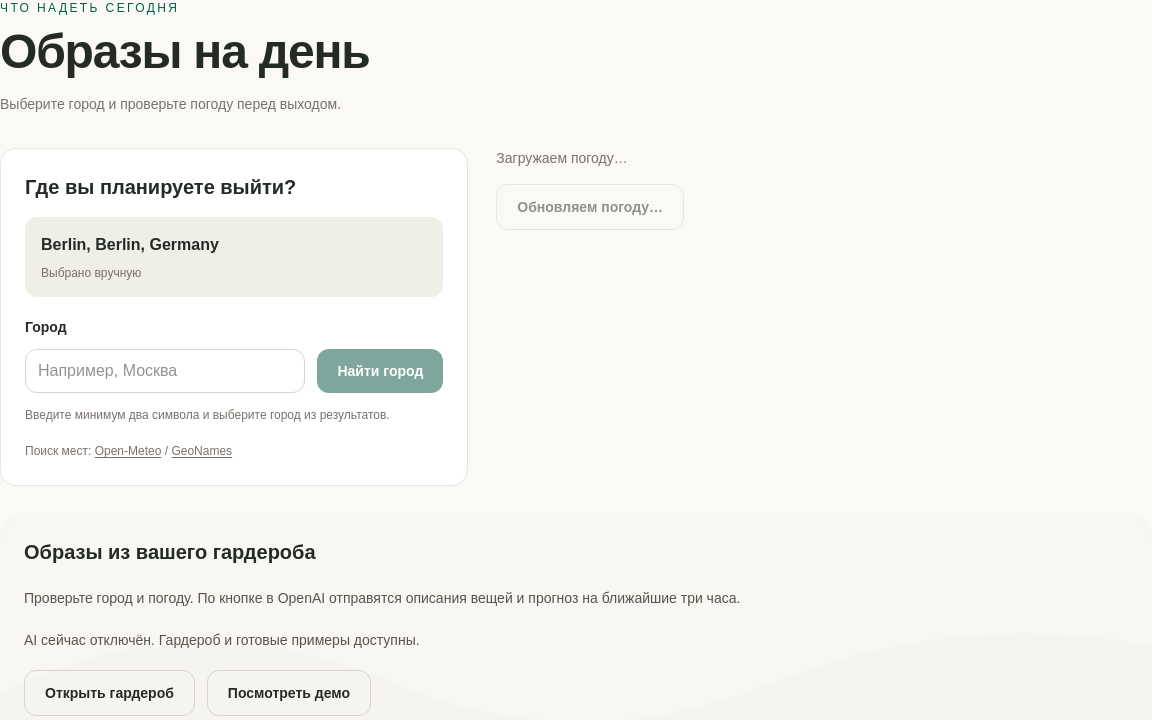
Test: personal place and weather › never displays weather from the previous city after a new location is selected
This screenshot has width=1152, height=720.
Type "Москва" into the field labelled "Город" at x=165, y=371, box [25,349,306,393]
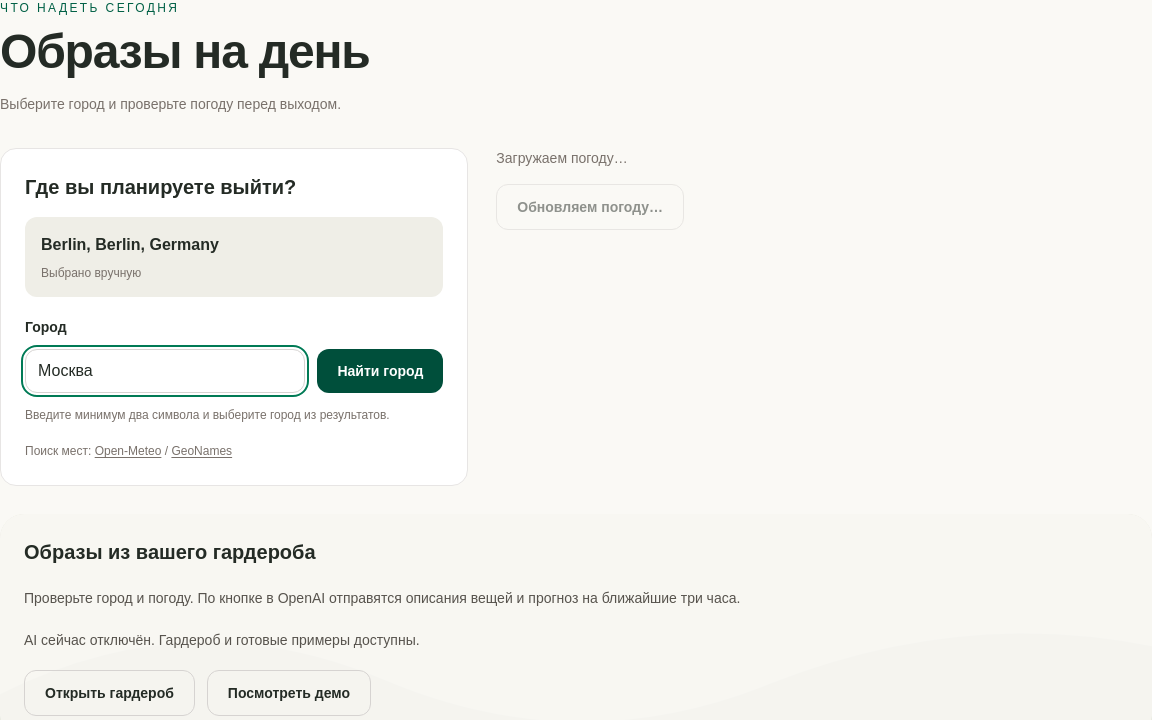
Click the button "Найти город" at x=380, y=371, box [318,349,443,393]
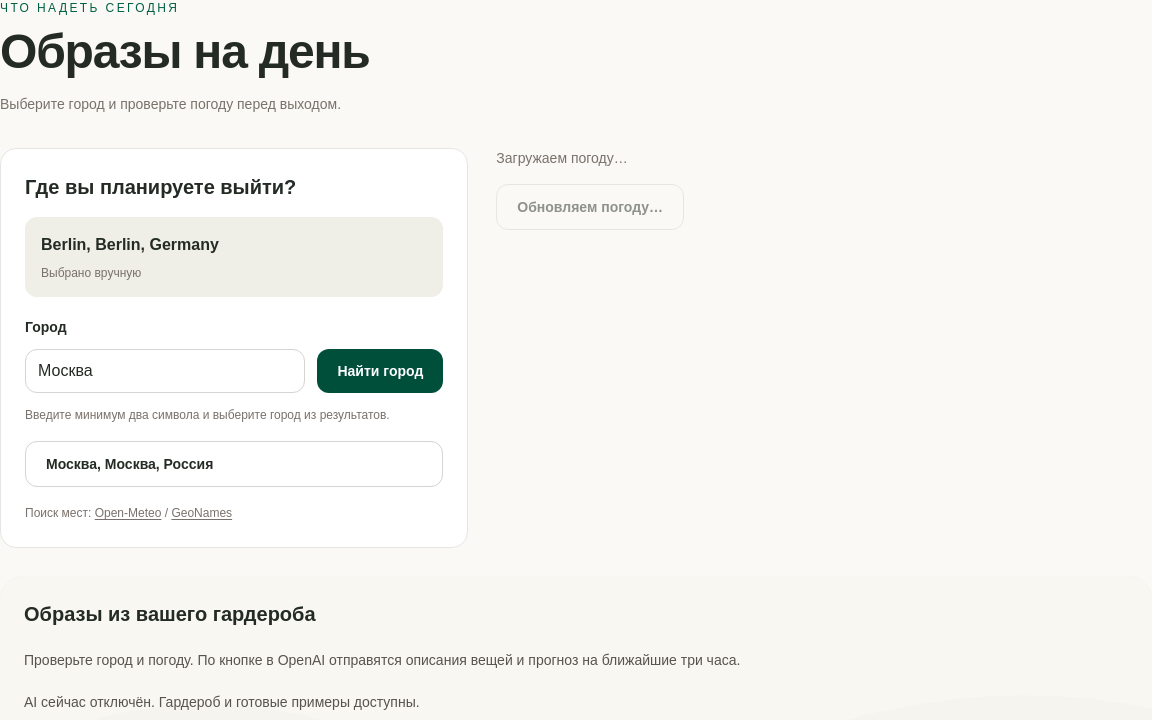
Click the button with aria-label "Выбрать Москва, Москва, Россия" at x=130, y=464, box [25,441,443,487]
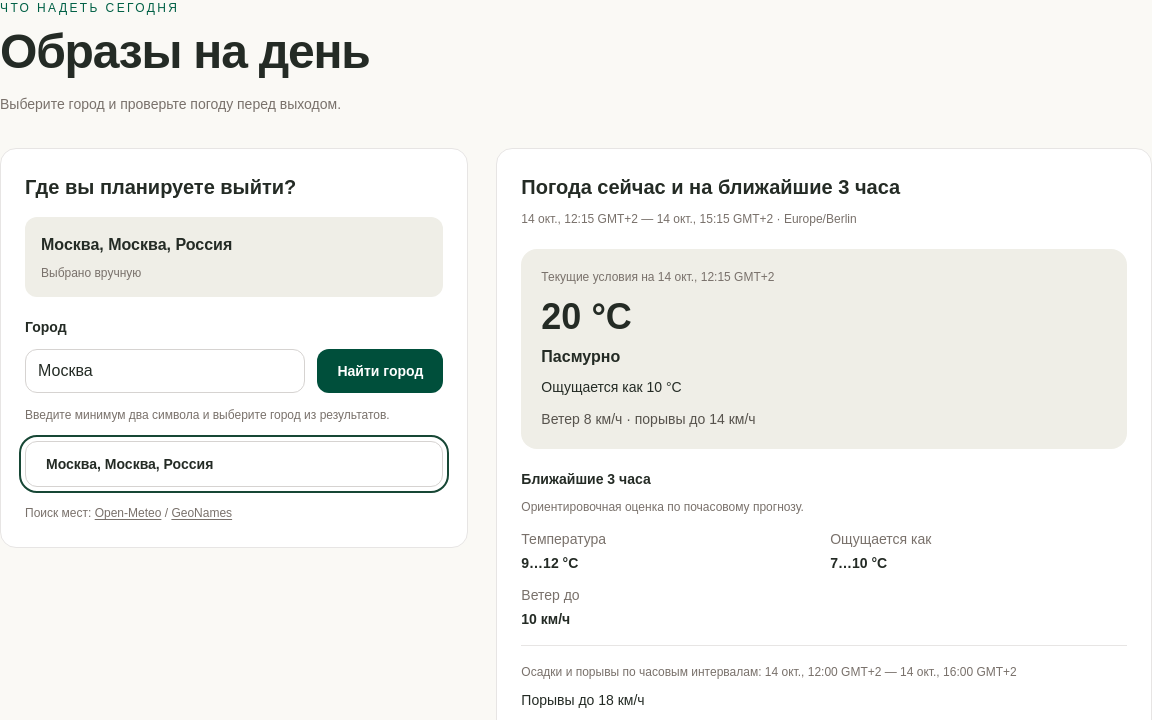
Expected: the text "20 °C" is shown, [541,296,632,337]
